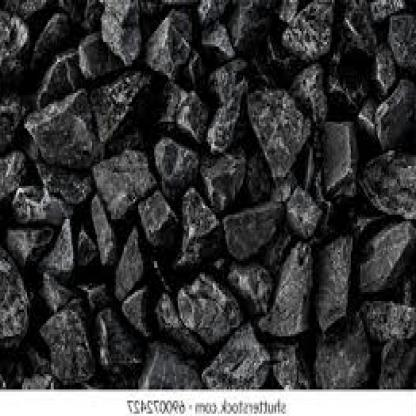Sedimentary_coal: (27, 86, 106, 171), (248, 82, 316, 179), (90, 62, 152, 137), (41, 306, 103, 380), (94, 146, 160, 215), (271, 244, 316, 338), (321, 230, 360, 330), (186, 268, 246, 332), (364, 219, 414, 294), (221, 192, 286, 248), (150, 4, 196, 82), (276, 4, 342, 56), (324, 111, 362, 201), (127, 343, 202, 387), (206, 75, 242, 153), (99, 5, 145, 66), (1, 261, 36, 341), (48, 210, 87, 272), (140, 186, 182, 241), (160, 135, 198, 184), (51, 13, 86, 56)
